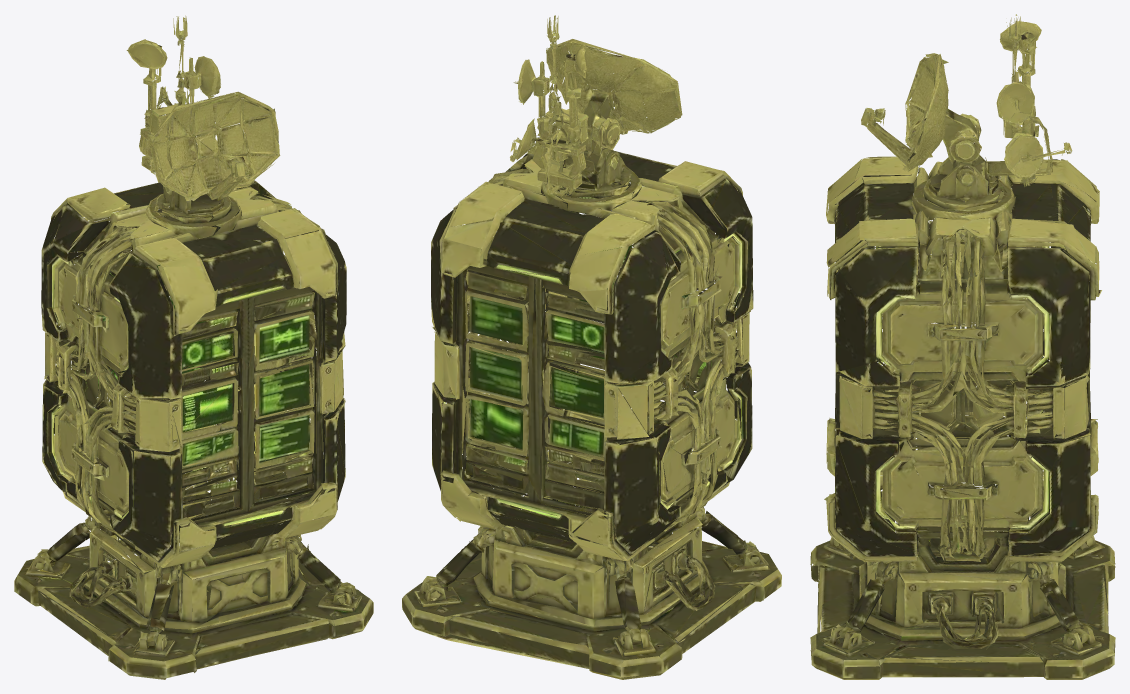
Rendered from tower_uplink_p1_t5.glb.
The picture shows the model from 3 angles, left to right: view 1: azimuth 30°, elevation 25°; view 2: azimuth 150°, elevation 25°; view 3: azimuth 270°, elevation 25°; orthographic projection. The views are drawn at different scales.
Parts seen in each view (by area): view 1: base, head; view 2: base, head; view 3: base, head.
Boxes of the visible parts, <box> form: base: <box>14,102,373,679</box>; head: <box>126,15,277,157</box>; base: <box>402,66,781,679</box>; head: <box>513,15,679,123</box>; base: <box>810,76,1115,679</box>; head: <box>915,14,1041,139</box>.
Bounding box in the file's own units: 0.7811 × 1.72 × 0.7781.
1 material, 1 textured.
